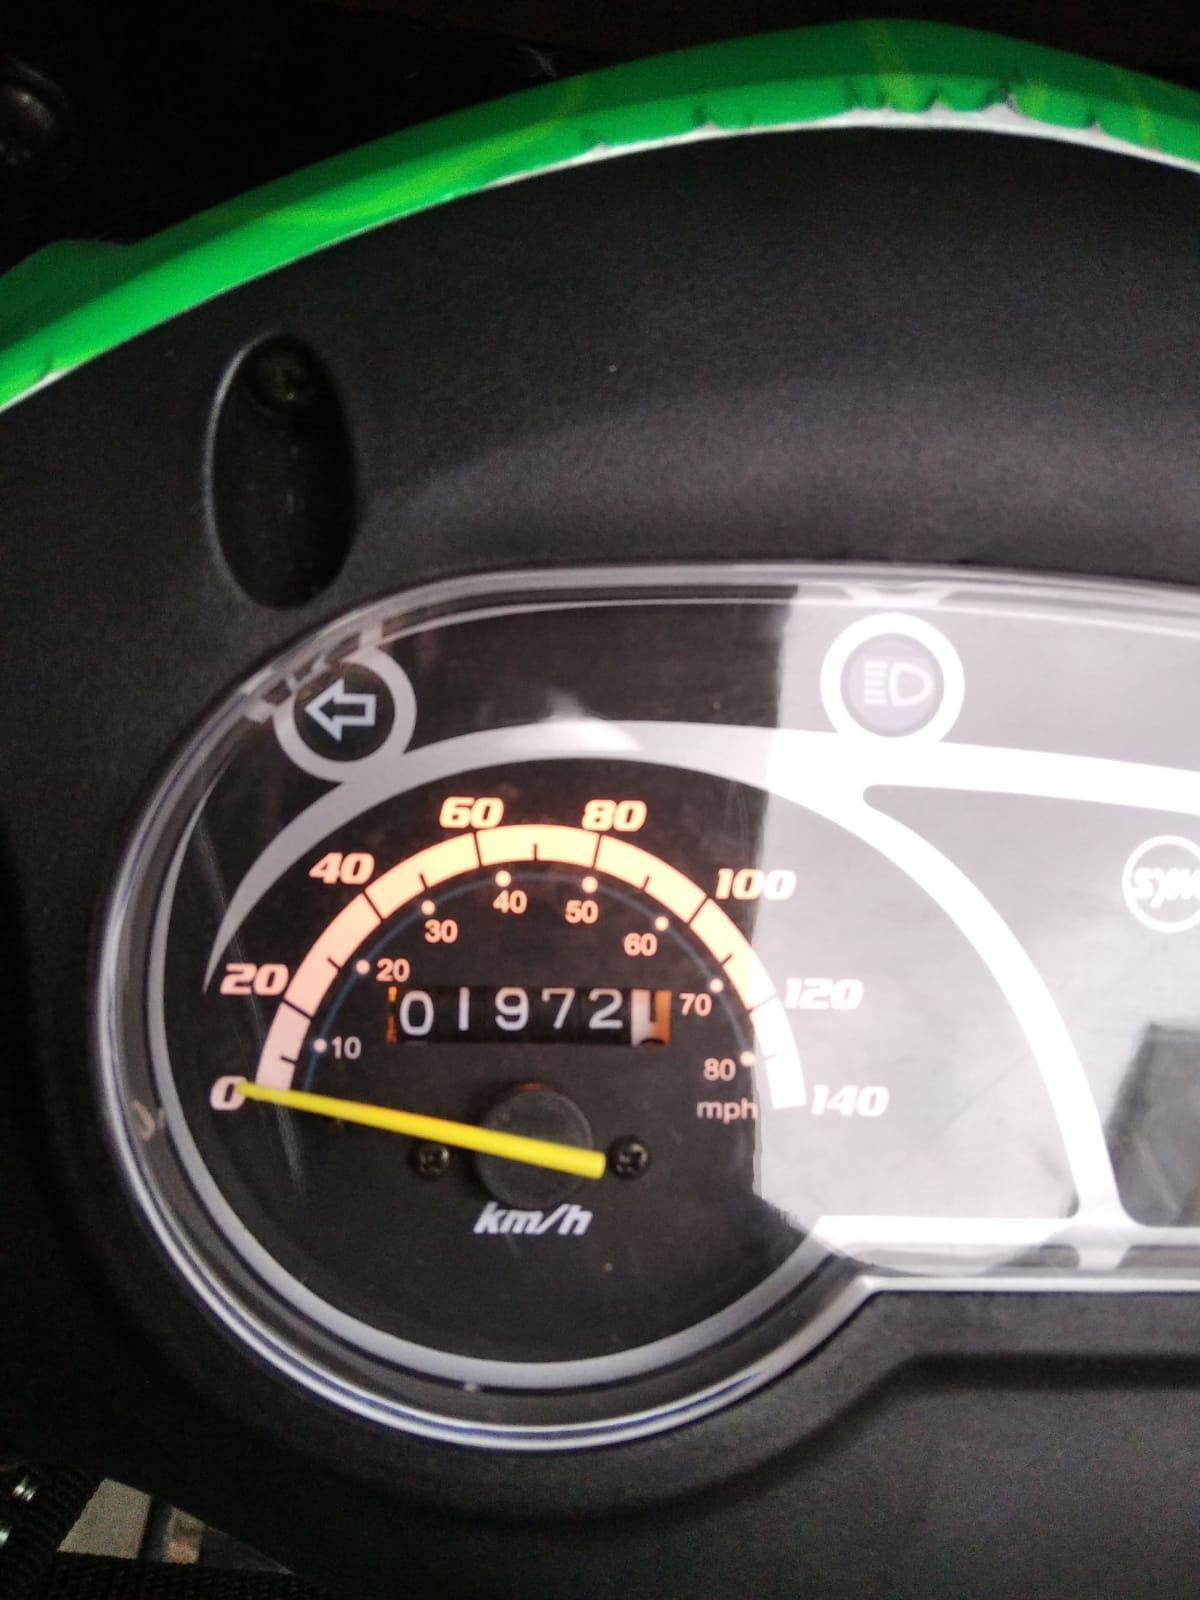0: (400, 988, 437, 1041)
1: (453, 984, 476, 1036), (642, 986, 667, 1026)
2: (587, 986, 626, 1033)
7: (541, 984, 577, 1033)
9: (492, 986, 531, 1033)
odometer: (367, 981, 683, 1065)
